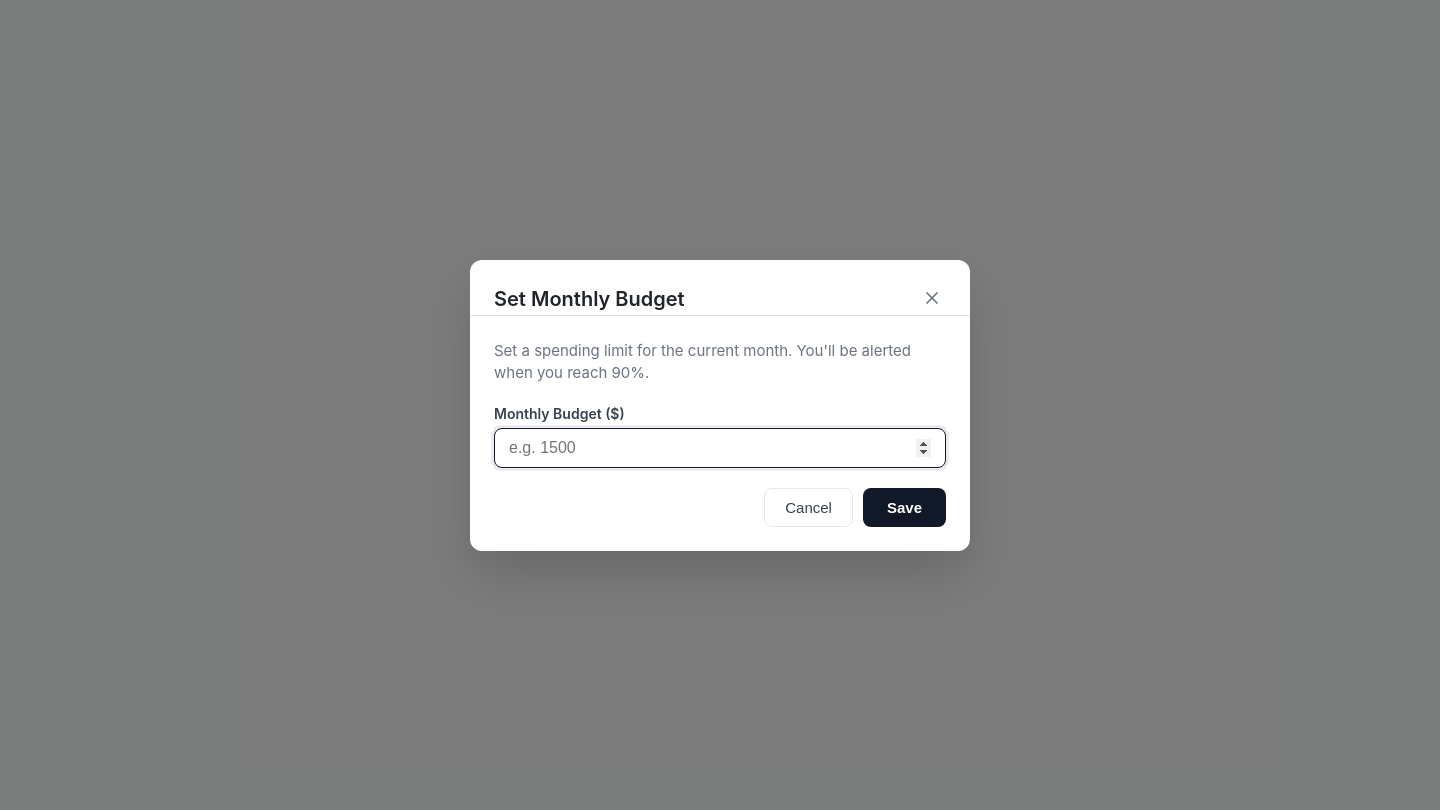
Scenario: SetBudgetModal › shows an error for a negative amount
The image size is (1440, 810).
Type "-50" into the number field labelled "Monthly Budget ($)" at [720, 448], box [494, 428, 946, 468]
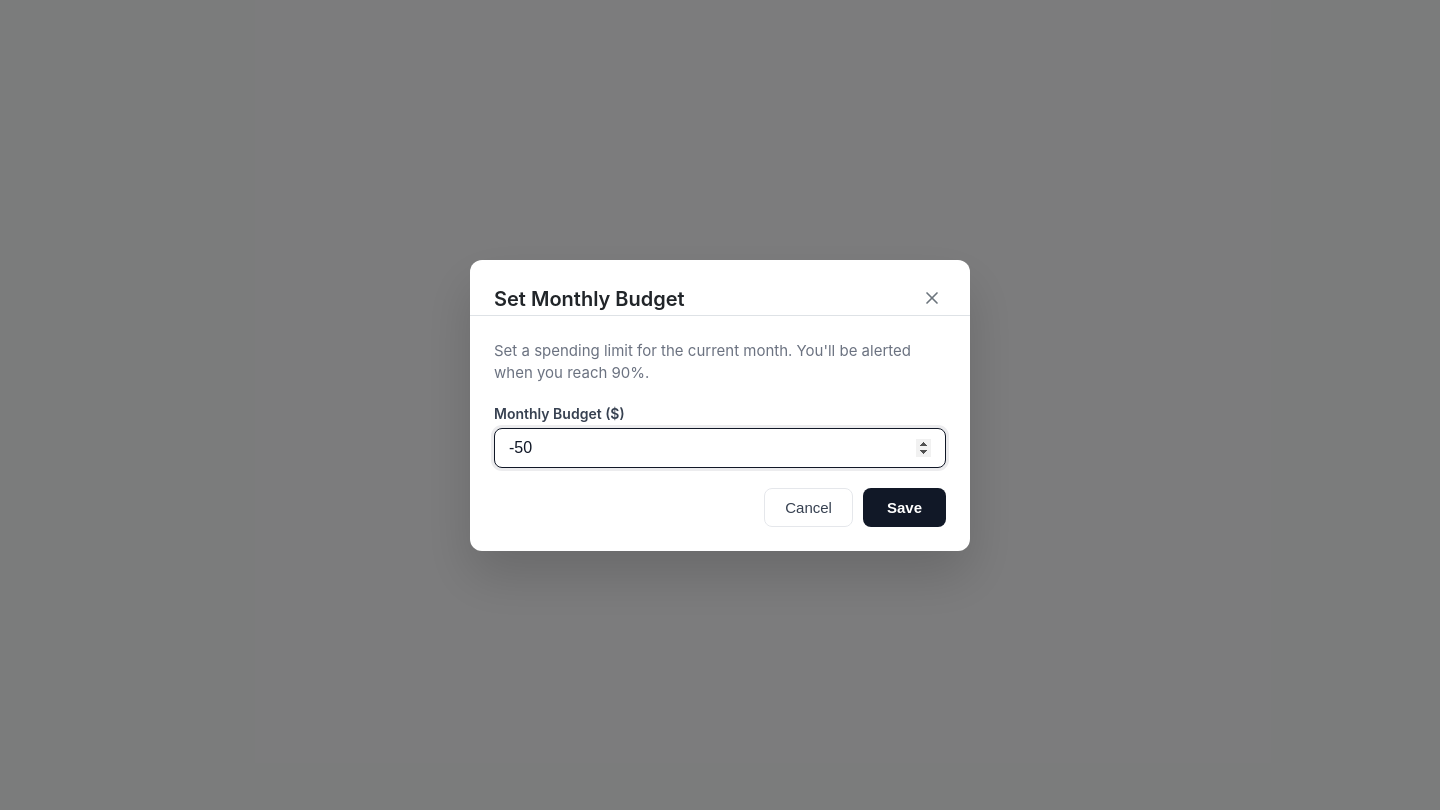
Click the button "Save" at [904, 507], box [863, 488, 946, 526]
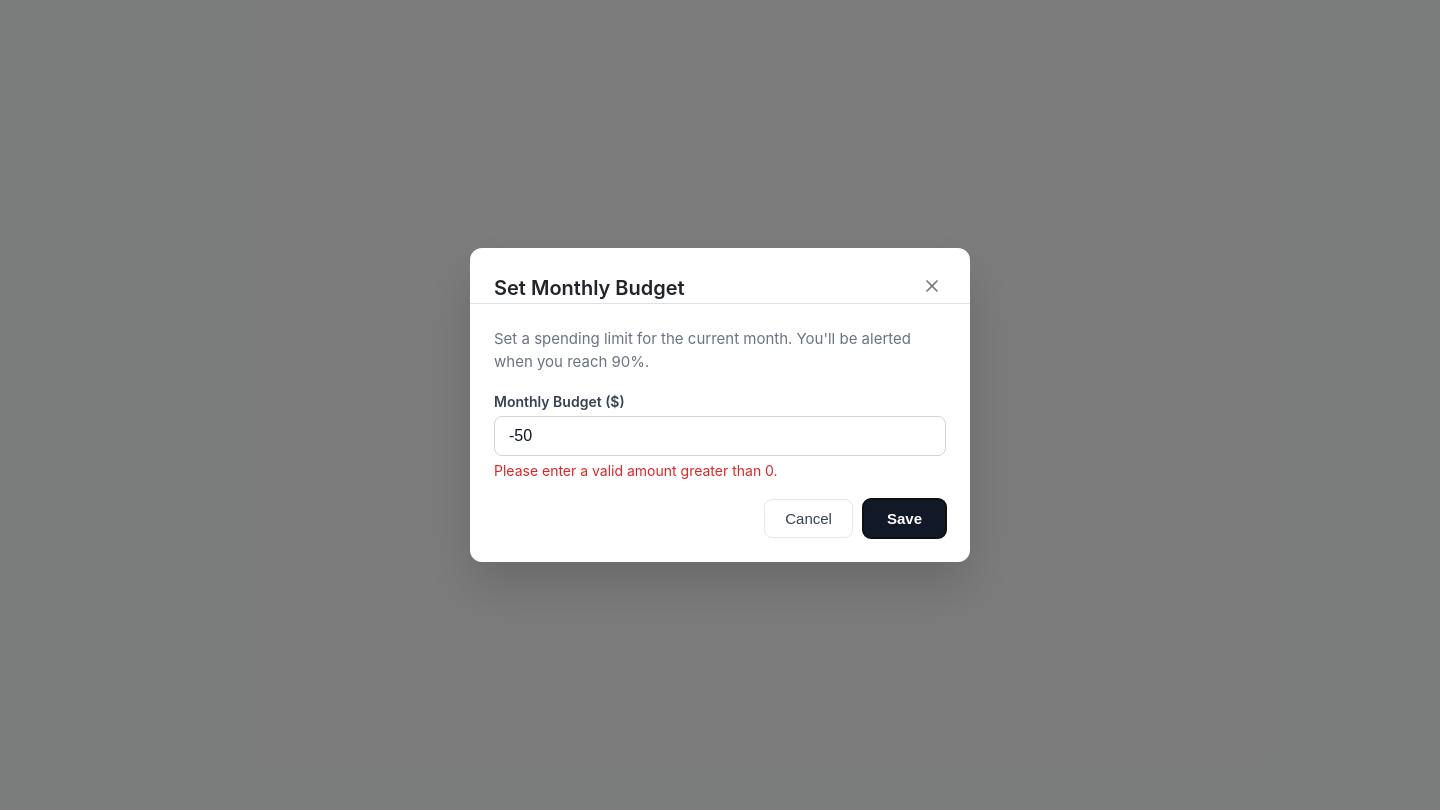
Expected: the text "Please enter a valid amount greater than 0." is shown, [494, 462, 778, 479]
